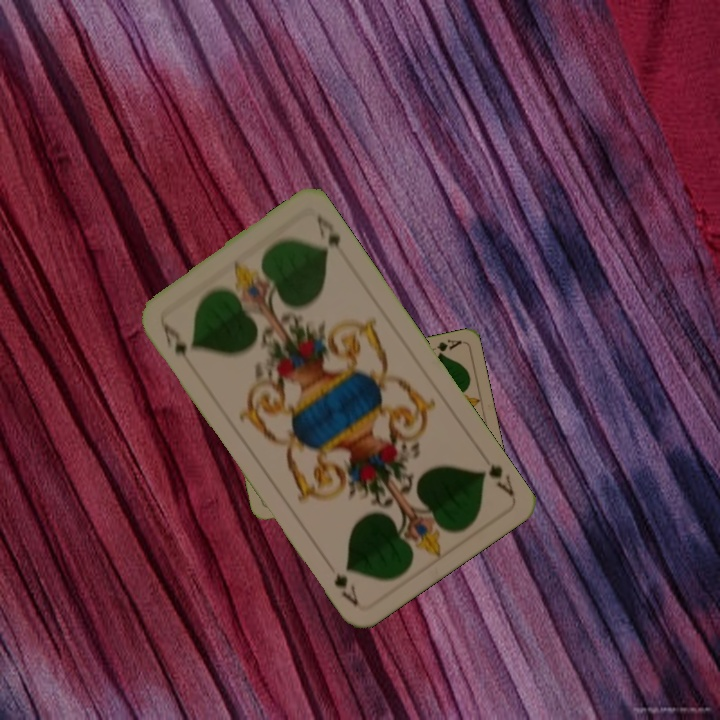GA: (156, 316, 195, 369), (476, 459, 517, 499), (424, 335, 464, 358)
